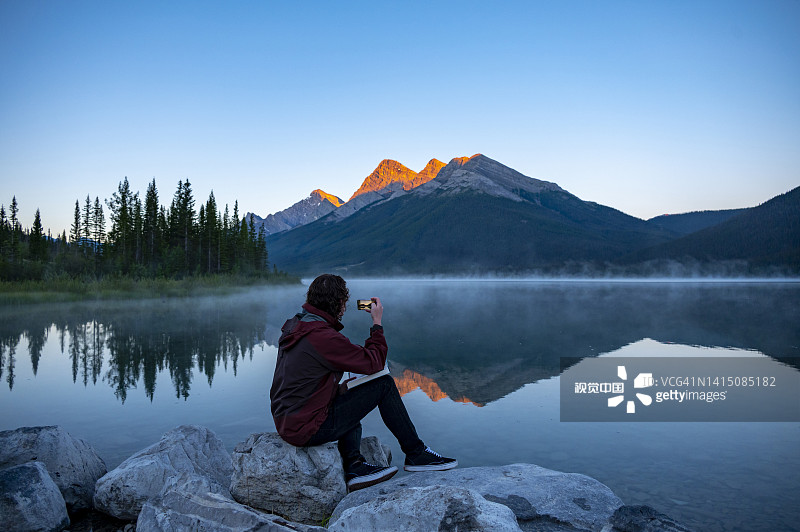taking photos: (354, 295, 393, 324)
